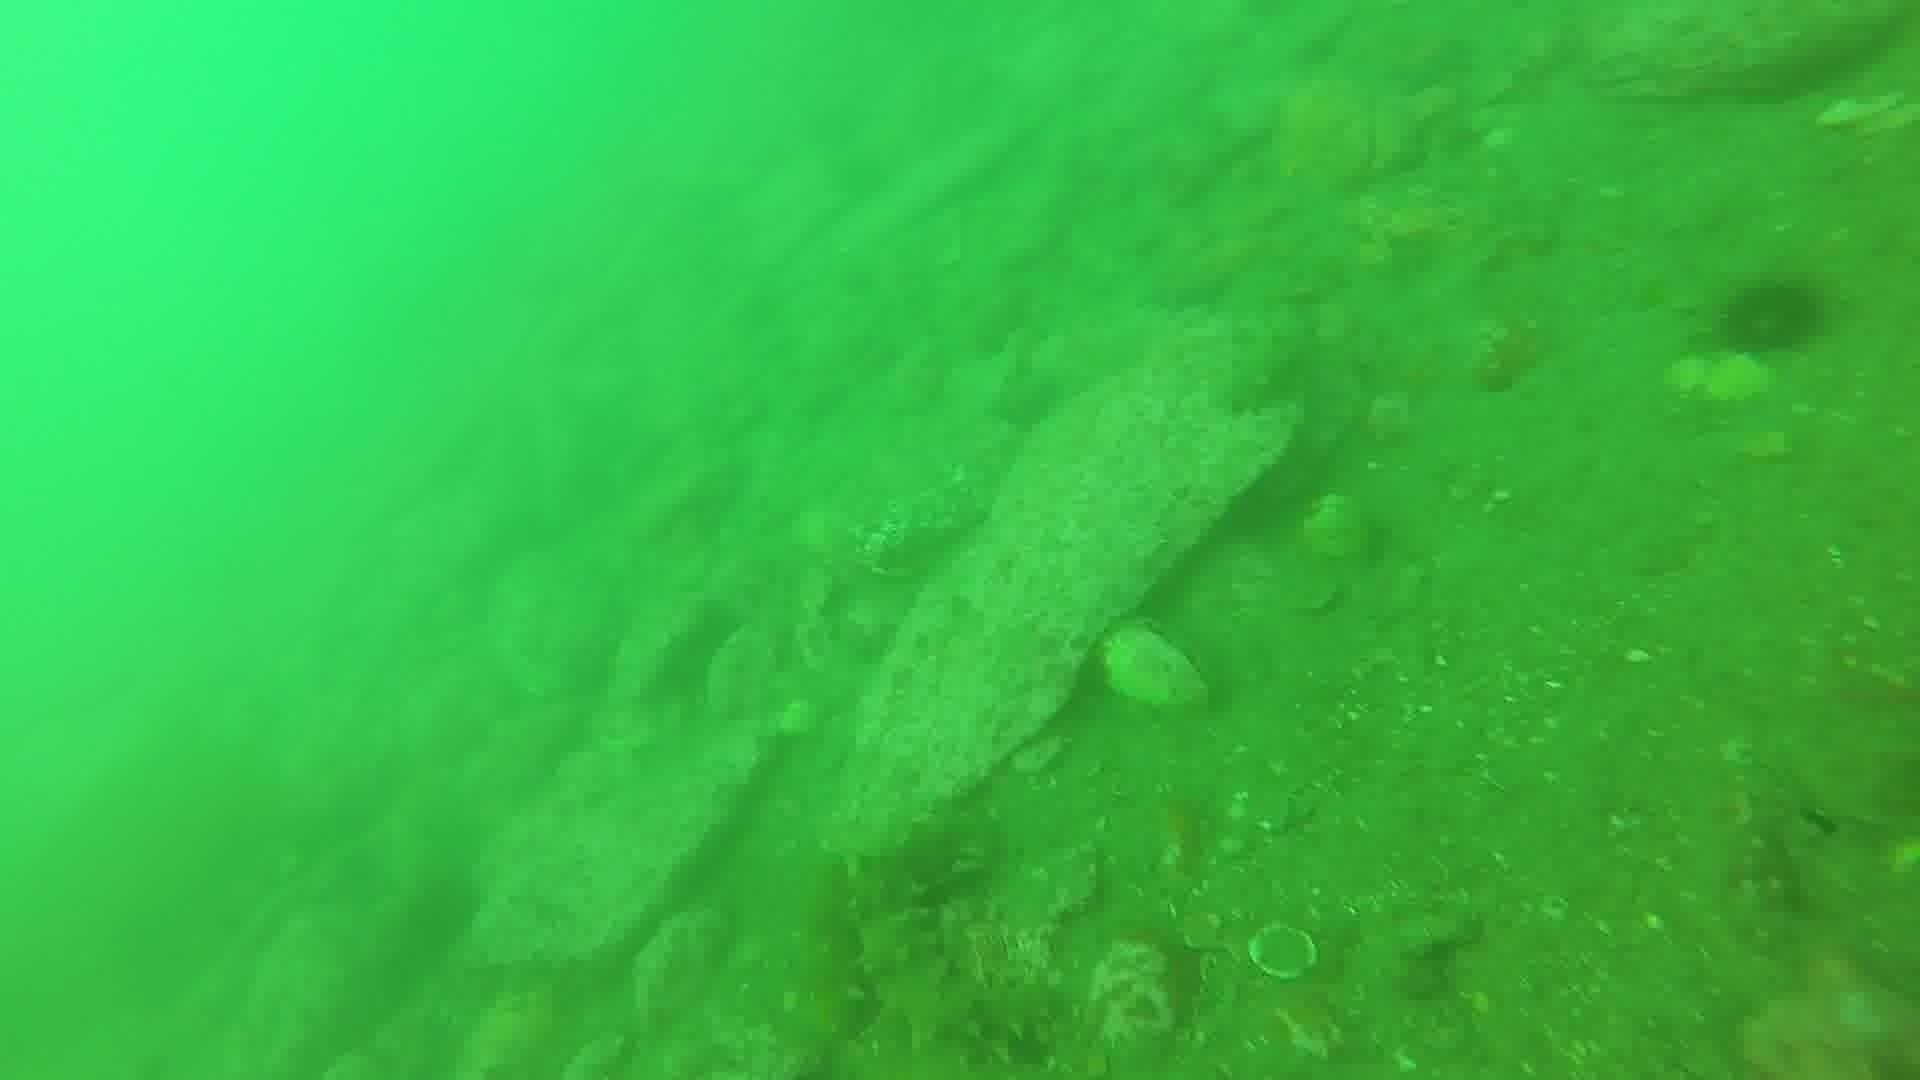echinus: (1713, 272, 1830, 363), (396, 869, 487, 961)
holothurian: (839, 827, 1065, 1065)
